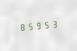eight: (18, 21, 25, 32)
five: (42, 19, 49, 30), (26, 21, 33, 31)
nine: (34, 20, 41, 30)
three: (50, 18, 57, 29)
